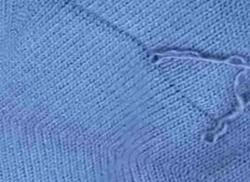snag: (140, 42, 192, 79)
